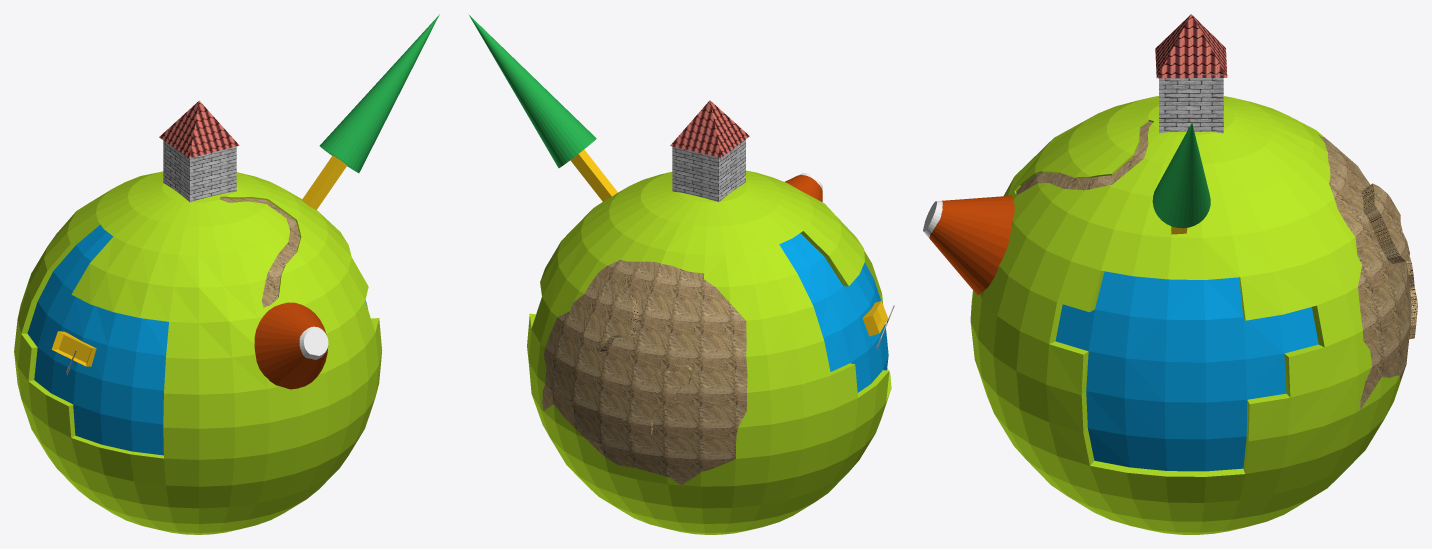
The model's file is planet.obj.
3 views of the same model, side by side, from view 1: azimuth 30°, elevation 25°; view 2: azimuth 150°, elevation 25°; view 3: azimuth 270°, elevation 25° (orthographic). The views are drawn at different scales.
Parts seen in each view (by area): view 1: Cube.001; view 2: Cube.001; view 3: Cube.001.
Part boxes in pixels (<box>): Cube.001: <box>14,14,439,534</box>; Cube.001: <box>469,15,894,534</box>; Cube.001: <box>923,14,1417,534</box>.
Bounding box in the file's own units: 17.21 × 18.22 × 15.29.
9 materials, 9 textured.
